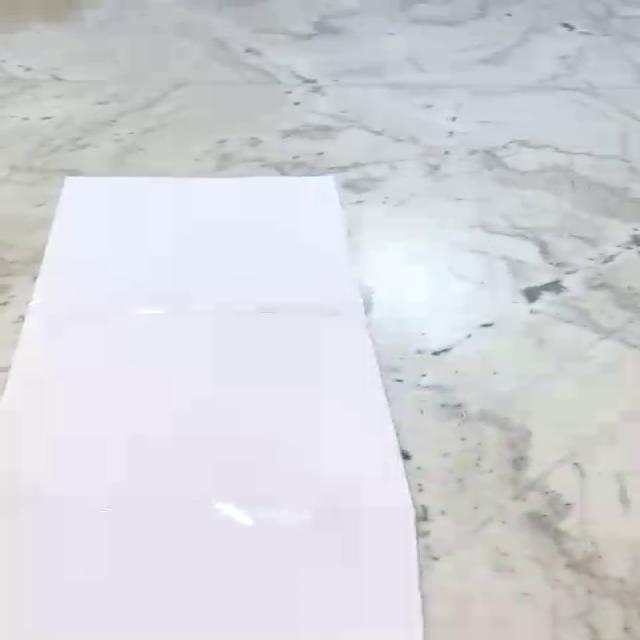road: (0, 175, 424, 640)
